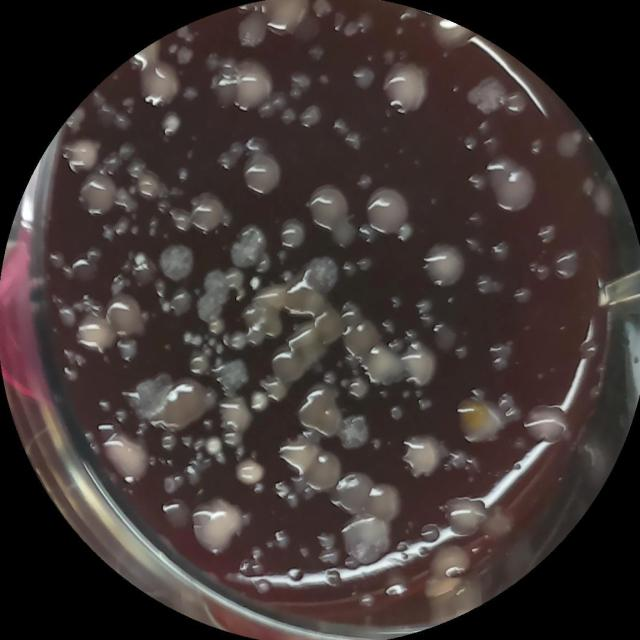Bacillus: (192, 498, 245, 560), (381, 60, 432, 116), (227, 55, 274, 114), (136, 61, 182, 110), (256, 0, 312, 40)
Staphylococcus: (249, 276, 261, 290)
